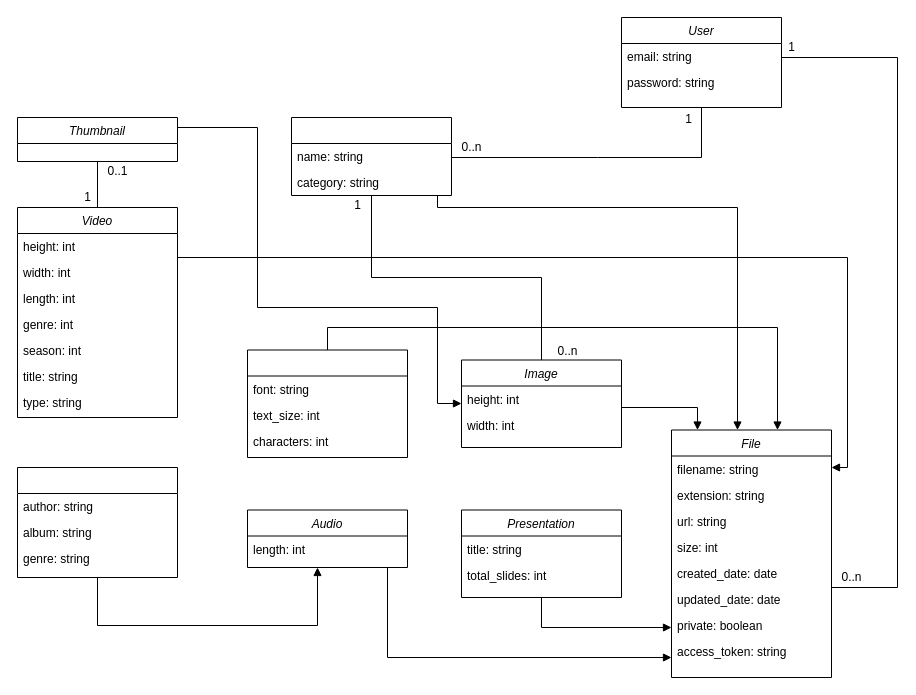
Image size: 916x695. Some labels were removed from this diagram. Each missing label, with the box of its shape:
Document: (246, 349, 408, 458)
Music: (16, 466, 178, 578)
Project: (290, 116, 452, 196)
